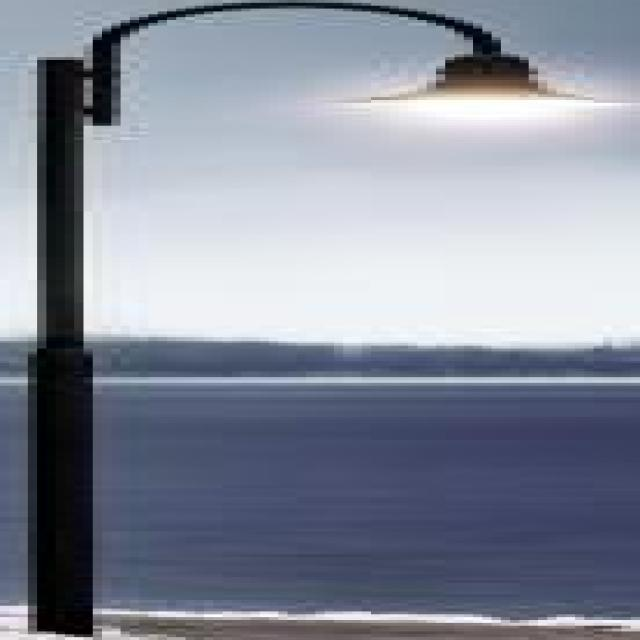street light: (9, 3, 640, 640)
